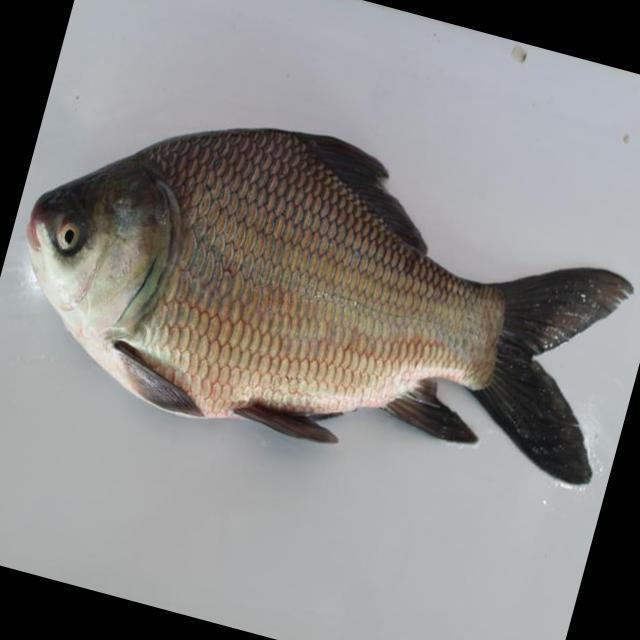Catla: (25, 128, 635, 484)
